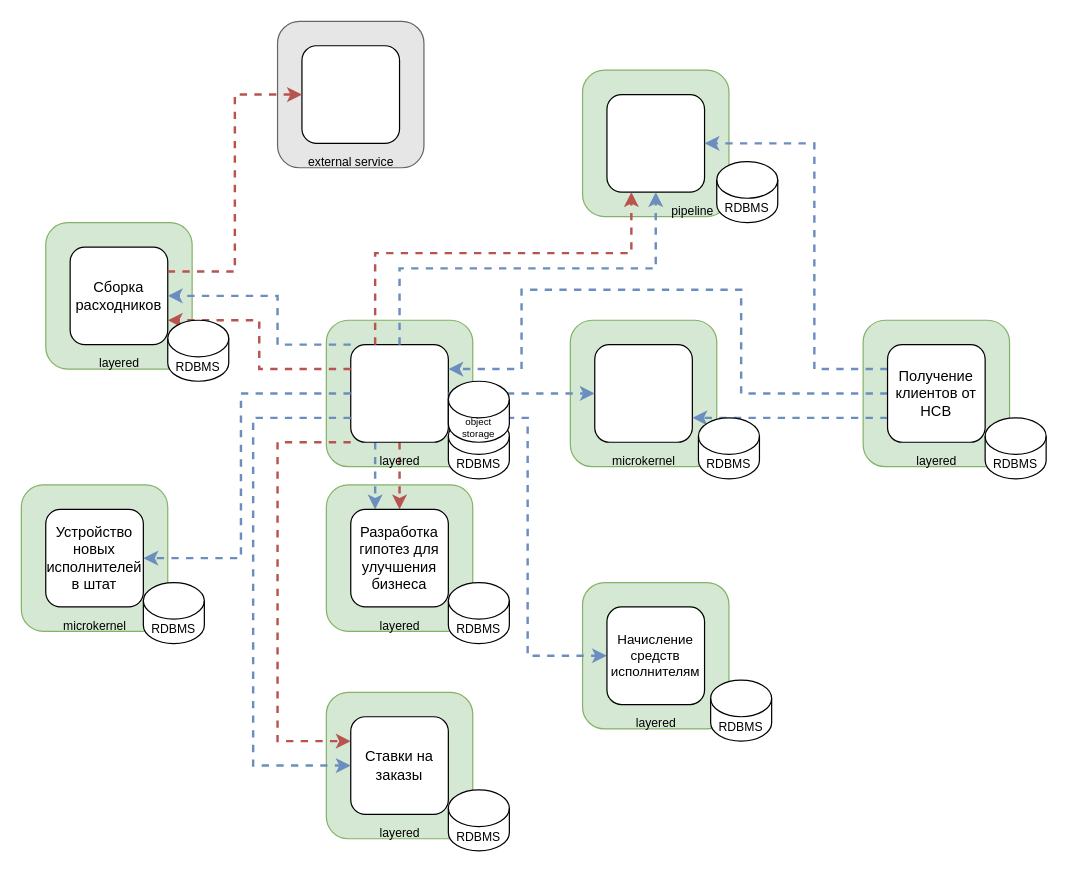
The diagram is 1068 pixels wide and 872 high, and some of its shapes have lost their labels. Here are the shapes that lost their labels. From the top down, the centre of each, then its label:
At point (350, 94): "Поставка печенья".
At point (655, 142): "Алгоритм матчинга".
At point (399, 392): "Обработка заказов".
At point (643, 392): "Списание средств у пользователей".
